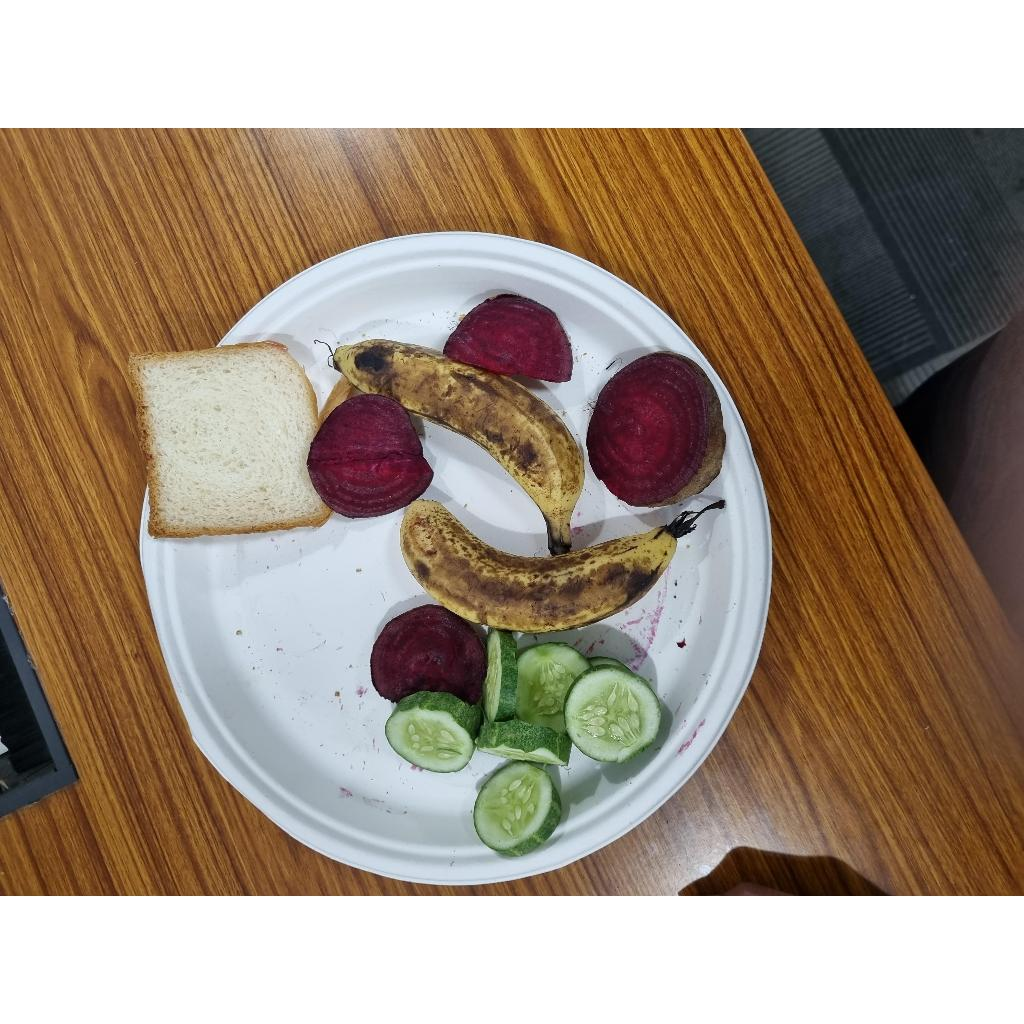banana: (334, 339, 584, 554), (400, 500, 677, 633)
